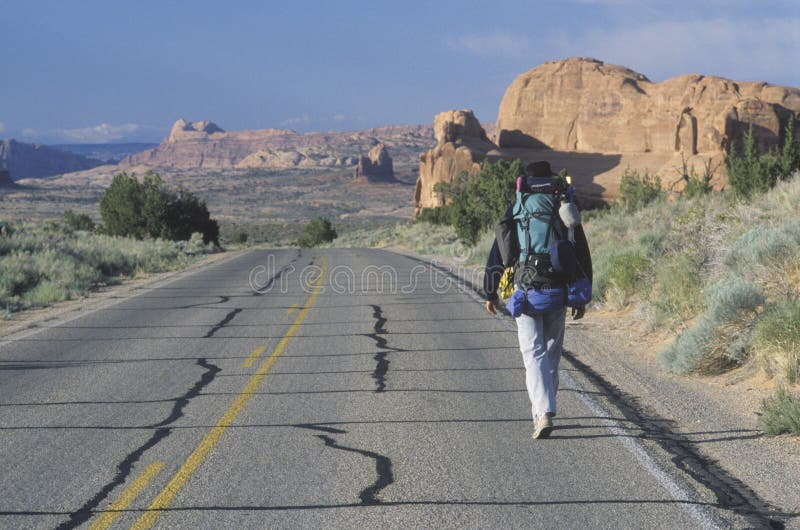Person: (475, 155, 595, 444)
